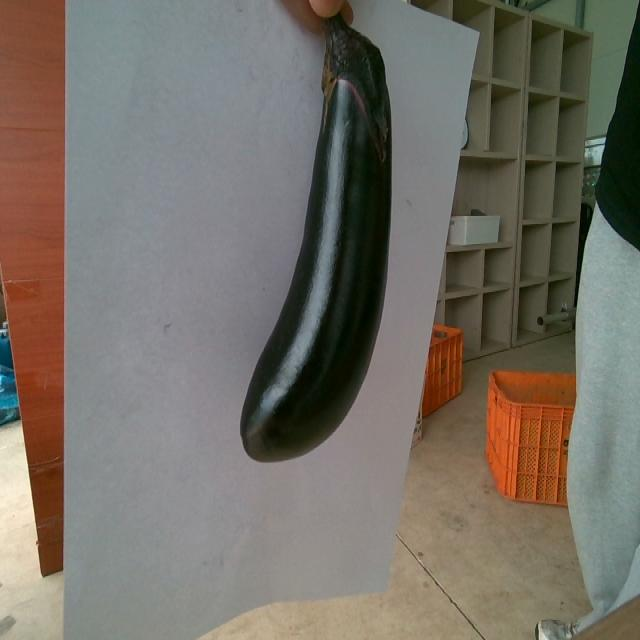Egg plant: (241, 15, 390, 460)
